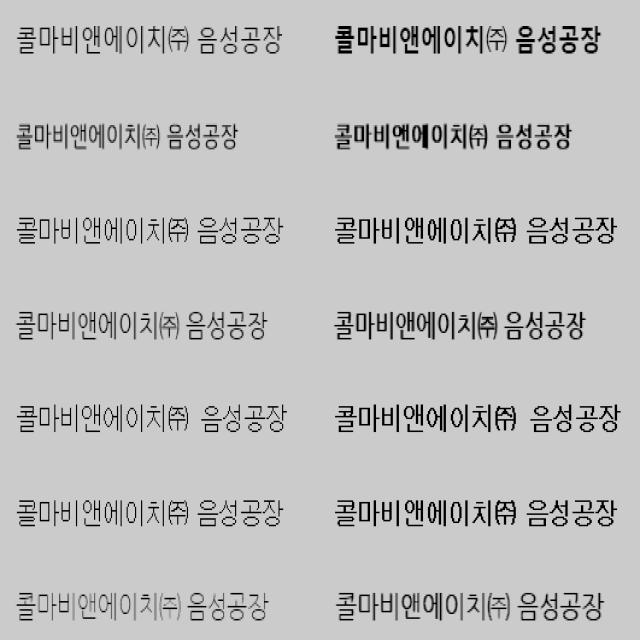bold: (330, 200, 620, 253), (332, 392, 624, 444), (328, 488, 622, 538), (328, 15, 608, 65), (333, 580, 610, 630), (331, 298, 589, 351), (330, 112, 578, 162)
normal: (13, 578, 273, 630), (13, 206, 287, 255), (10, 490, 286, 538), (17, 300, 270, 352), (13, 16, 286, 64), (13, 393, 290, 439), (12, 112, 242, 162)
